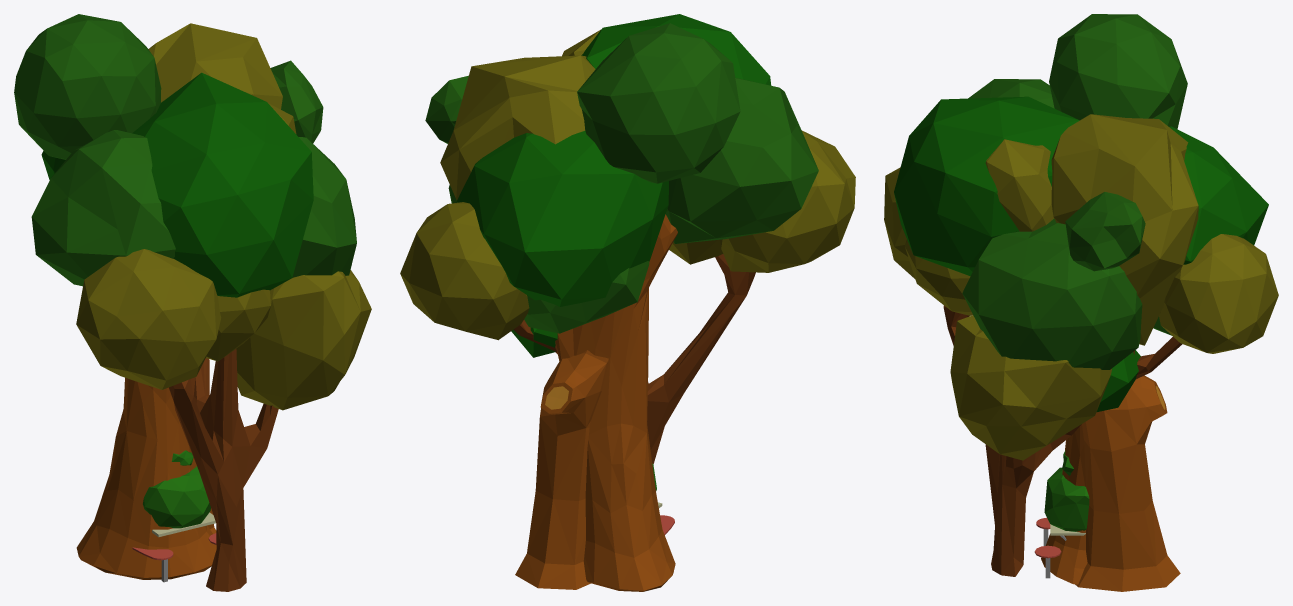
Rendered from tailgate-v1.glb.
3 views of the same model, side by side, from view 1: azimuth 30°, elevation 25°; view 2: azimuth 150°, elevation 25°; view 3: azimuth 270°, elevation 25° (orthographic). The views are drawn at different scales.
Parts seen in each view (by area): view 1: tree2, tree3, tree1, bush, picnic; view 2: tree2, tree1, tree3; view 3: tree3, tree2, tree1, bush, picnic.
Part boxes in pixels (bbox=[...]): tree2: bbox=[14, 14, 356, 579]; tree3: bbox=[76, 23, 371, 591]; tree1: bbox=[41, 72, 313, 533]; bush: bbox=[143, 450, 210, 528]; picnic: bbox=[132, 533, 216, 582]; tree2: bbox=[425, 23, 818, 591]; tree1: bbox=[457, 14, 771, 589]; tree3: bbox=[400, 29, 855, 464]; tree3: bbox=[884, 114, 1278, 576]; tree2: bbox=[962, 14, 1187, 584]; tree1: bbox=[894, 96, 1268, 591]; bush: bbox=[1044, 450, 1089, 531]; picnic: bbox=[1034, 517, 1078, 578].
Size of the model in its own units: 6.18 by 10 by 6.97.
